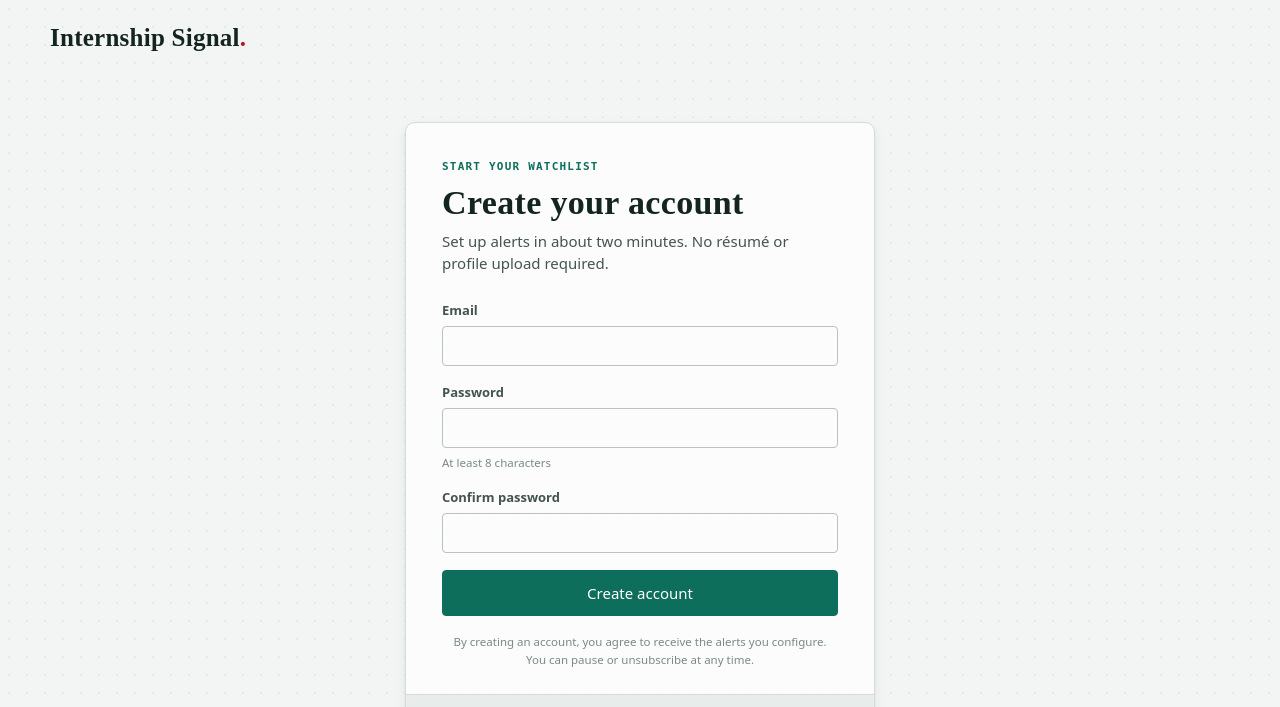
Test: hosted Internship Signal MVP › validates the minimal signup form
Type "not-an-email" into the field labelled "Email" at (640, 346), box [442, 326, 838, 366]
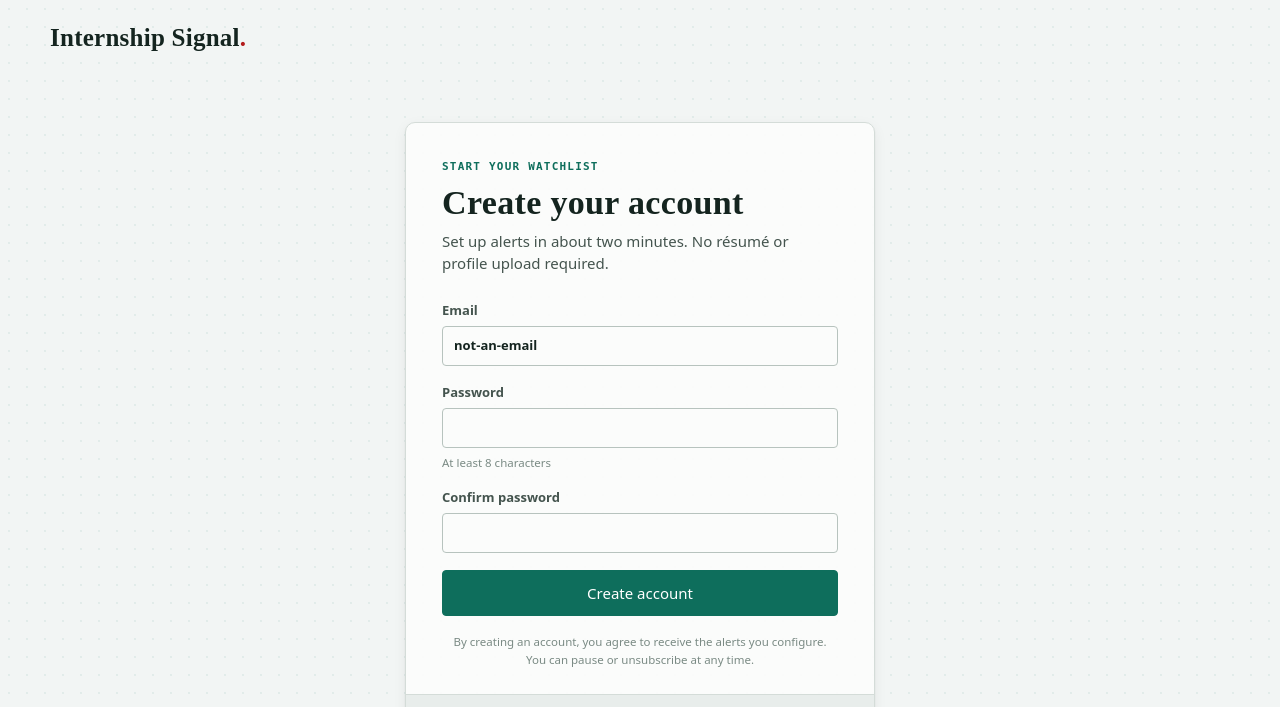
Type "short" into the password field labelled "Password At least 8 characters" at (640, 428), box [442, 408, 838, 448]
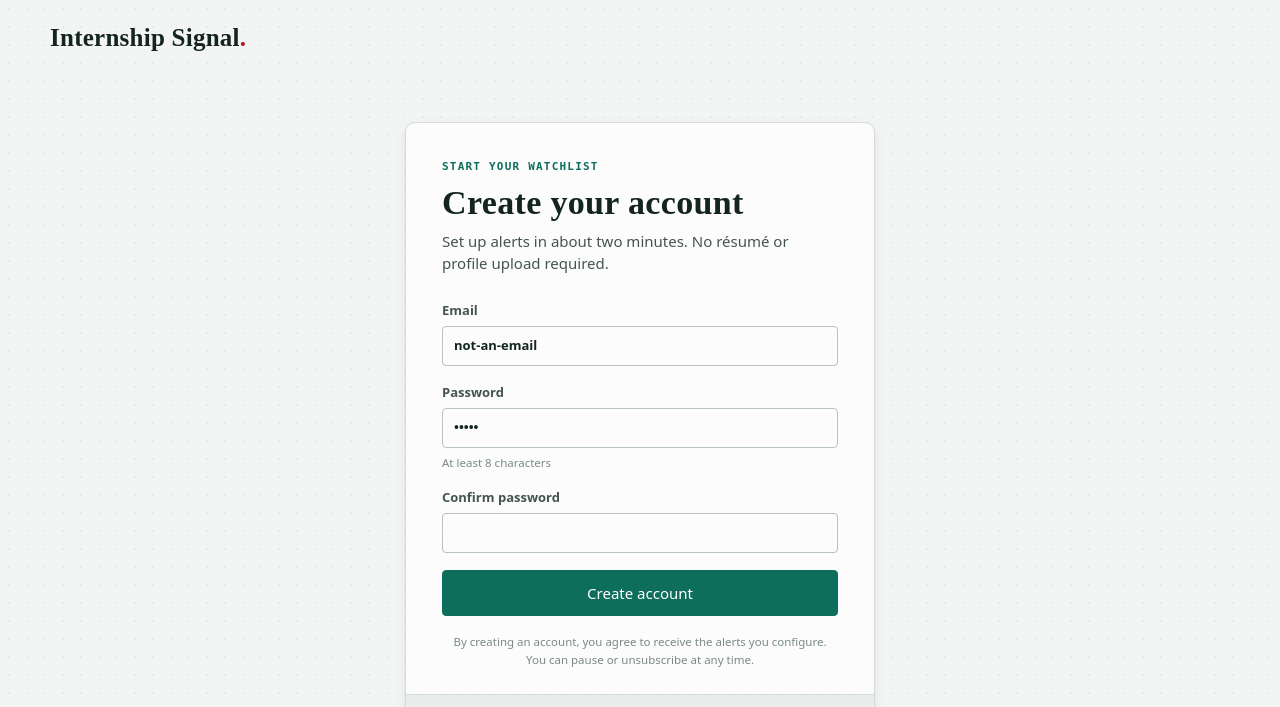
Type "different" into the password field labelled "Confirm password" at (640, 533), box [442, 513, 838, 553]
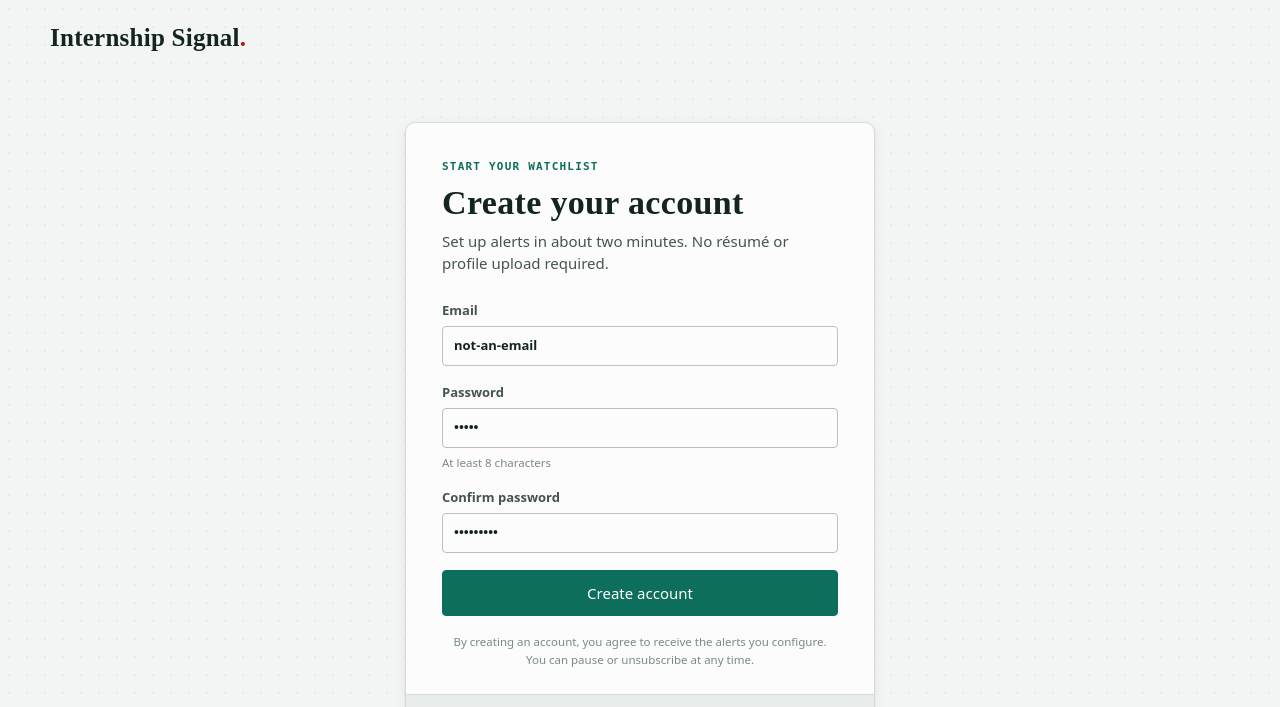
Click the button "Create account" at (640, 593), box [442, 570, 838, 616]
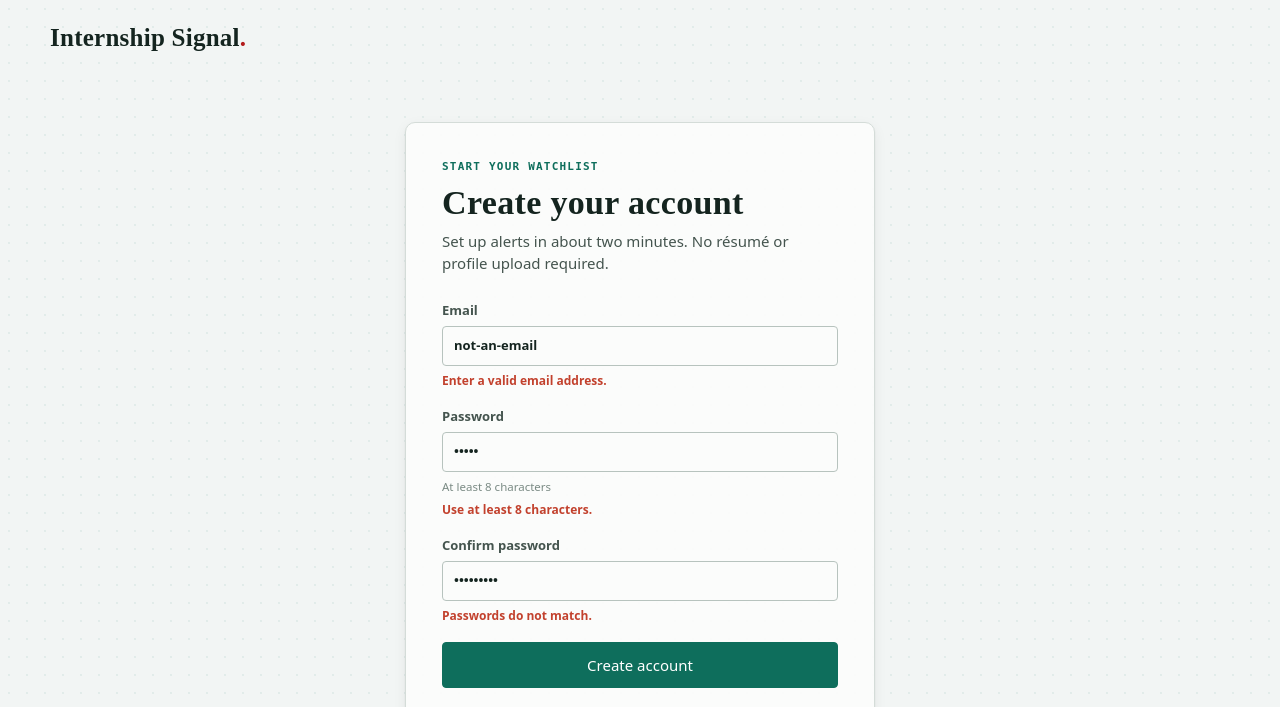
Expected: the text "Enter a valid email address." is shown, [442, 372, 607, 389]
Expected: the text "Use at least 8 characters." is shown, [442, 501, 592, 518]
Expected: the text "Passwords do not match." is shown, [442, 607, 592, 624]
